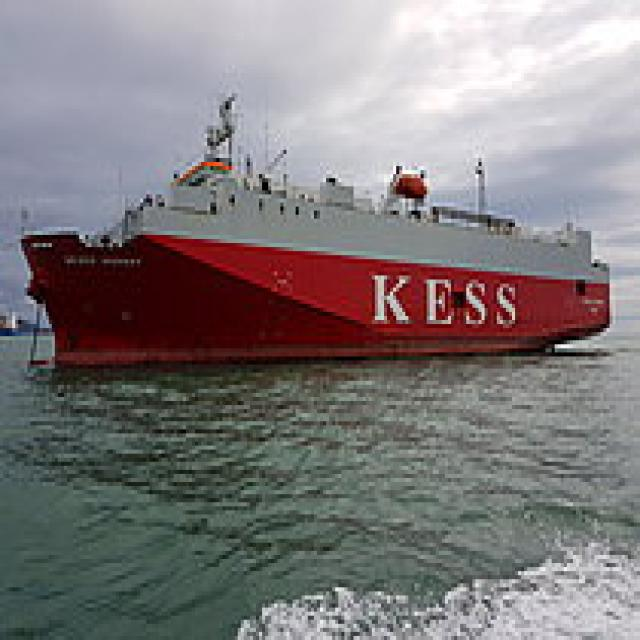Carrier: (15, 81, 613, 369)
